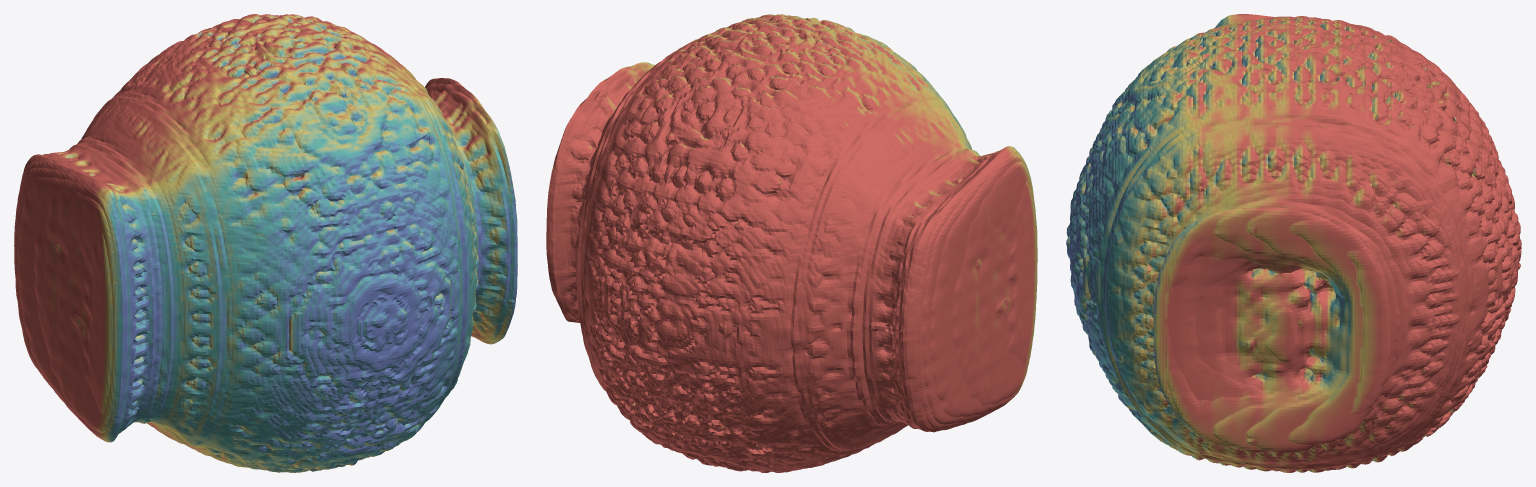
Rendered from 37fd4f2e-4954-43ca-b787-c4433fd46e10.heatmap.glb.
3 views of the same model, side by side, from view 1: azimuth 30°, elevation 25°; view 2: azimuth 150°, elevation 25°; view 3: azimuth 270°, elevation 25° (orthographic).
Parts seen in each view (by area): view 1: world; view 2: world; view 3: world.
Part boxes in pixels (x1,y1,x2,y2): world: [14, 14, 517, 472]; world: [546, 14, 1037, 472]; world: [1066, 14, 1521, 472].
Size of the model in its own units: 30.42 by 30 by 29.39.
